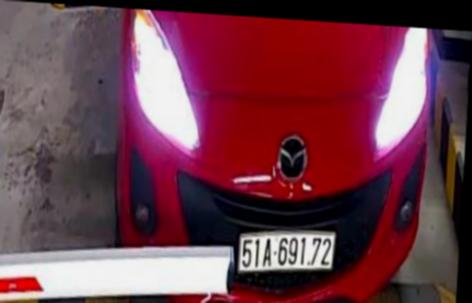License_Plate: (234, 228, 340, 282)
